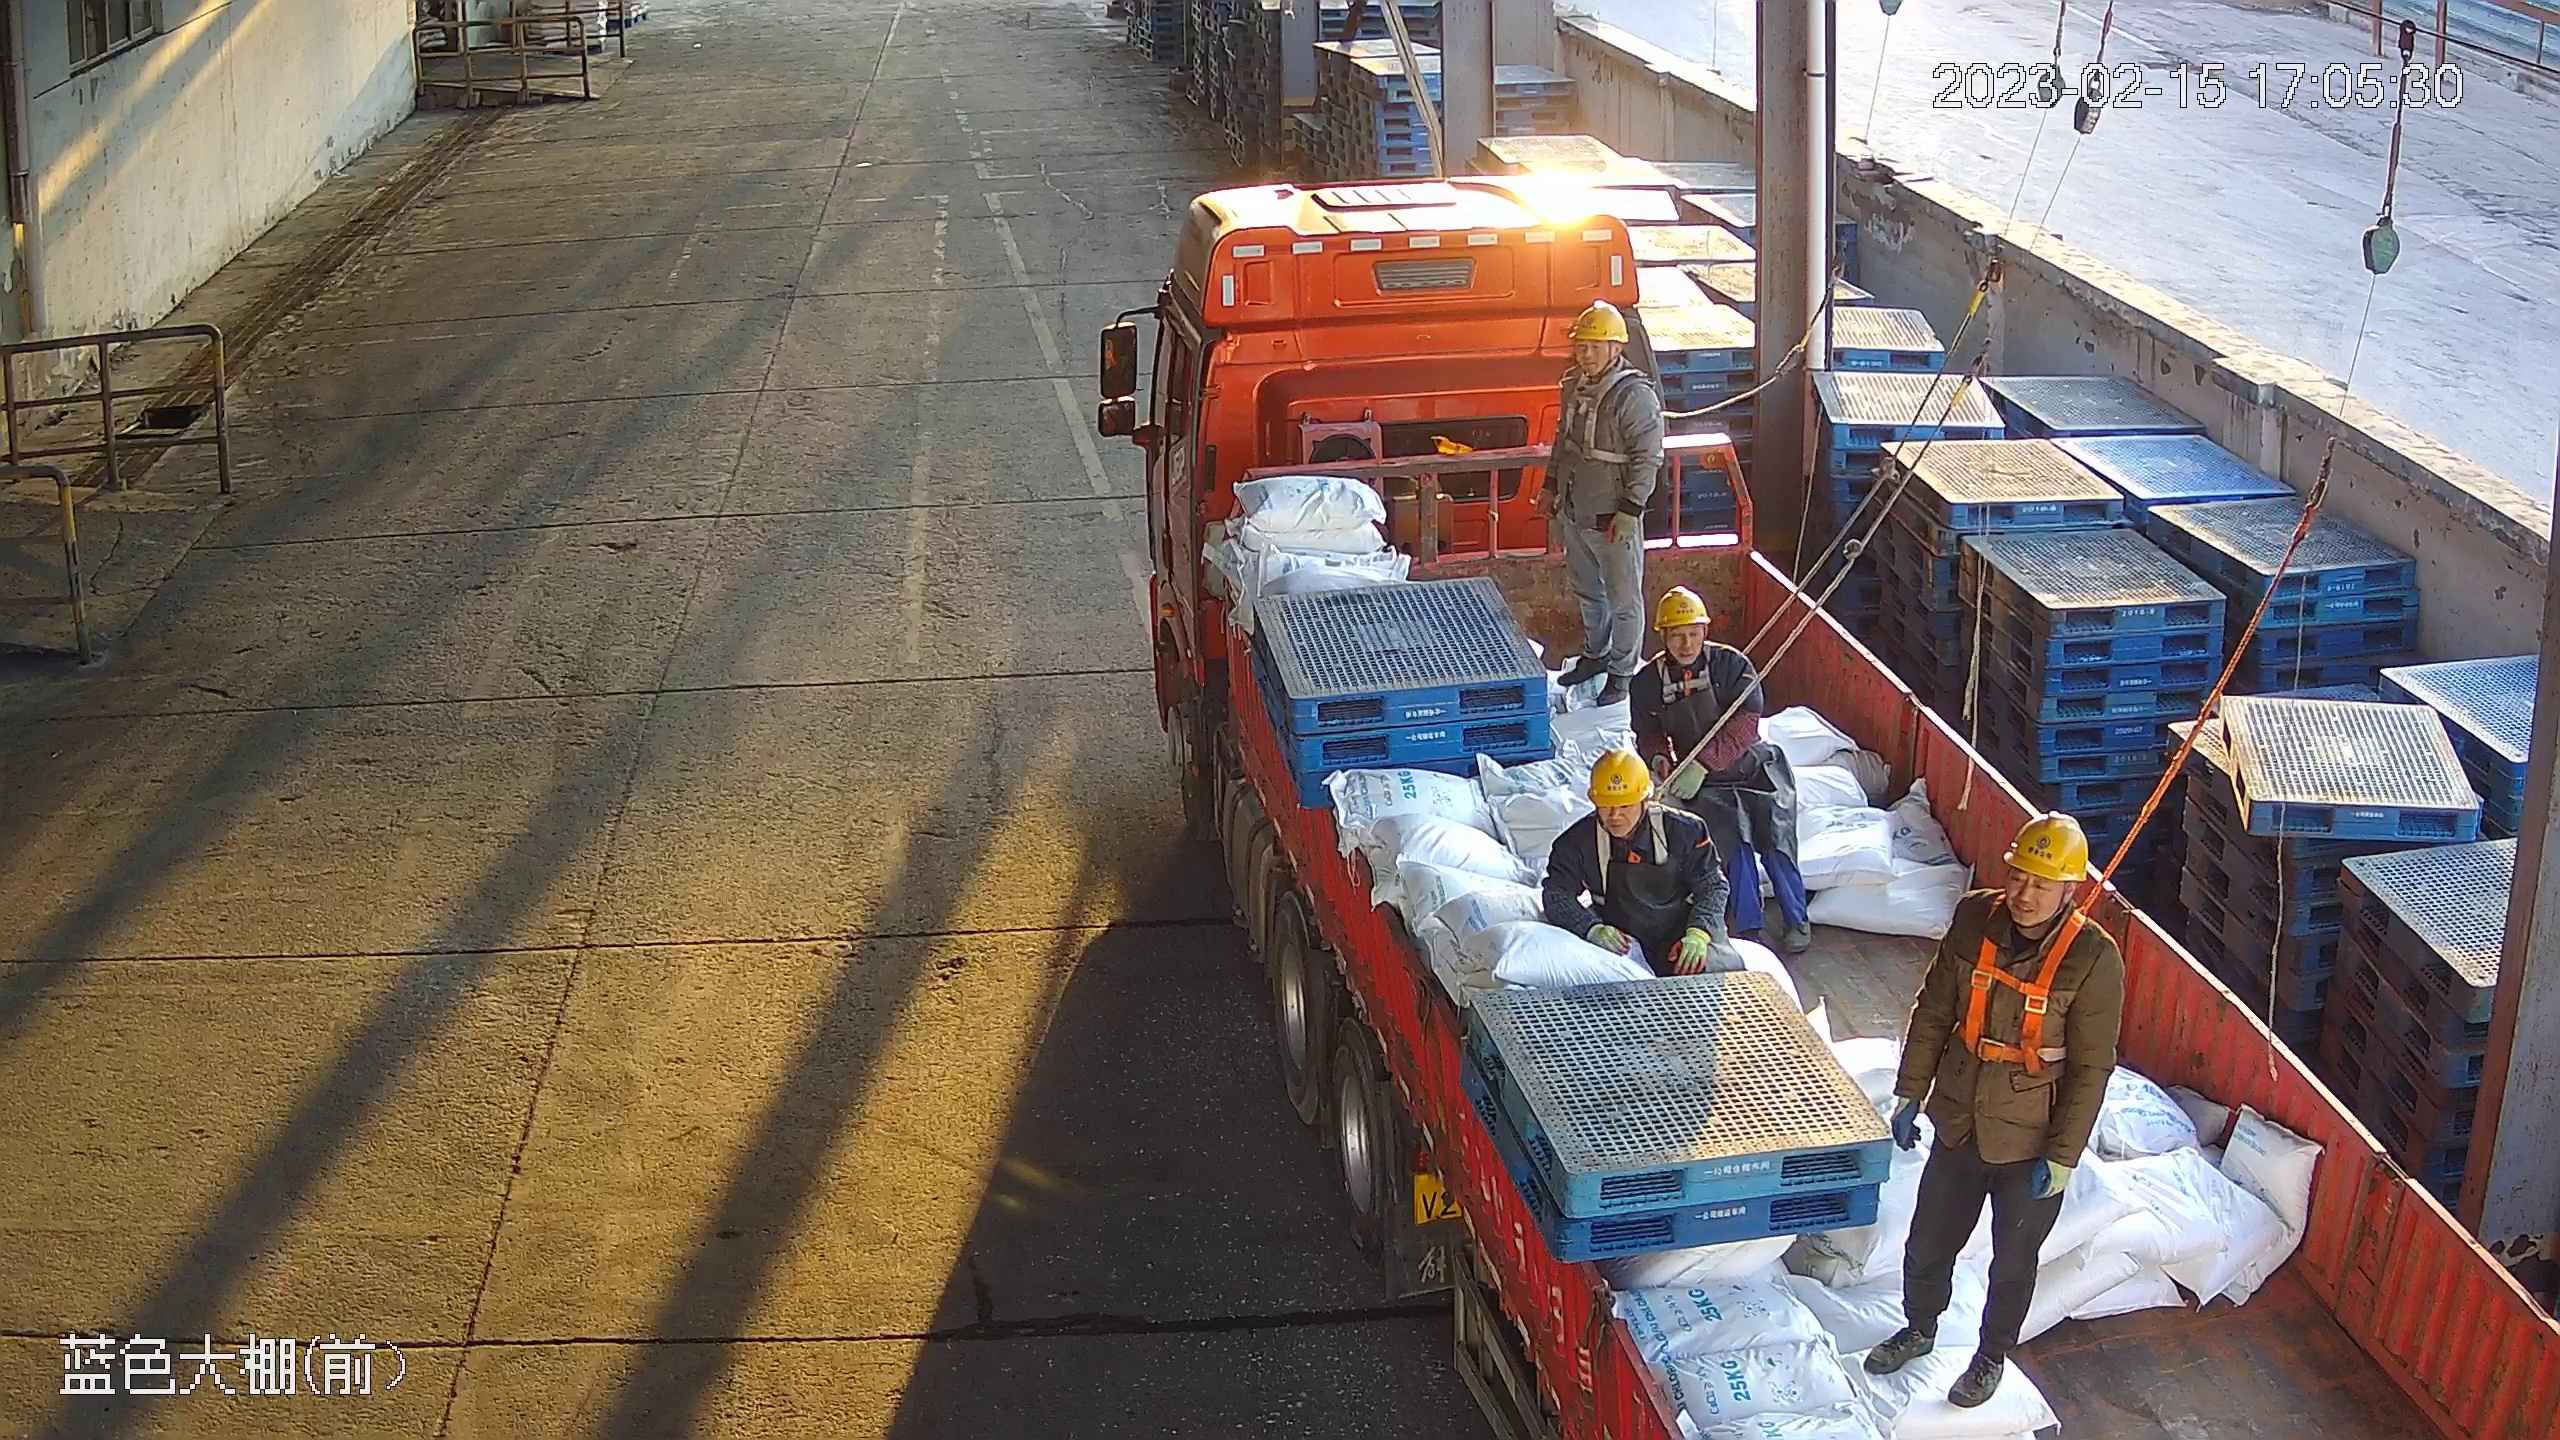belt: (1957, 890, 2091, 1068), (1551, 369, 1640, 478), (1578, 808, 1688, 883), (1654, 652, 1730, 723)
head: (1934, 808, 2118, 1020), (1561, 747, 1718, 888), (1545, 296, 1664, 450), (1635, 584, 1766, 710)
helmet: (2003, 811, 2090, 888), (1586, 745, 1656, 805), (1567, 301, 1629, 345), (1651, 589, 1706, 628)
people: (1861, 806, 2127, 1411), (1627, 586, 1815, 957), (1535, 298, 1664, 708), (1545, 744, 1742, 979)
truck: (1093, 171, 2556, 1440)
